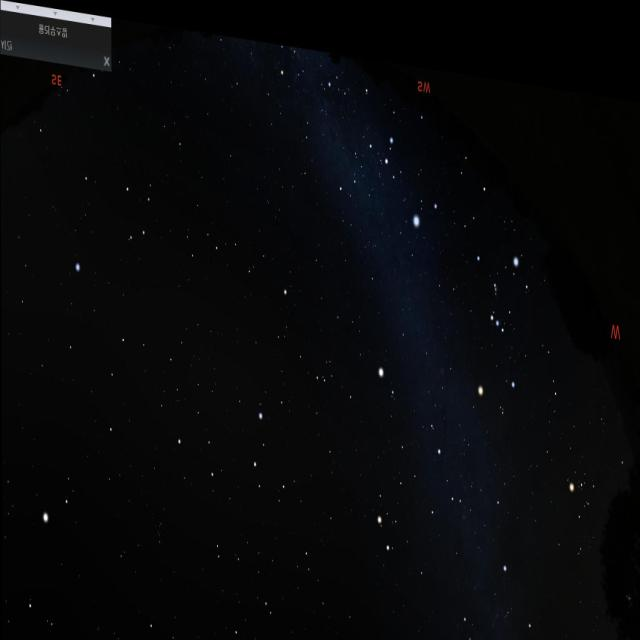bootes: (3, 499, 69, 640)
canis_major: (381, 117, 457, 241)
canis_minor: (369, 342, 401, 397)
gemini: (367, 417, 465, 573)
leo: (170, 376, 292, 520)
orion: (466, 224, 522, 405)
taurus: (569, 448, 639, 575)
